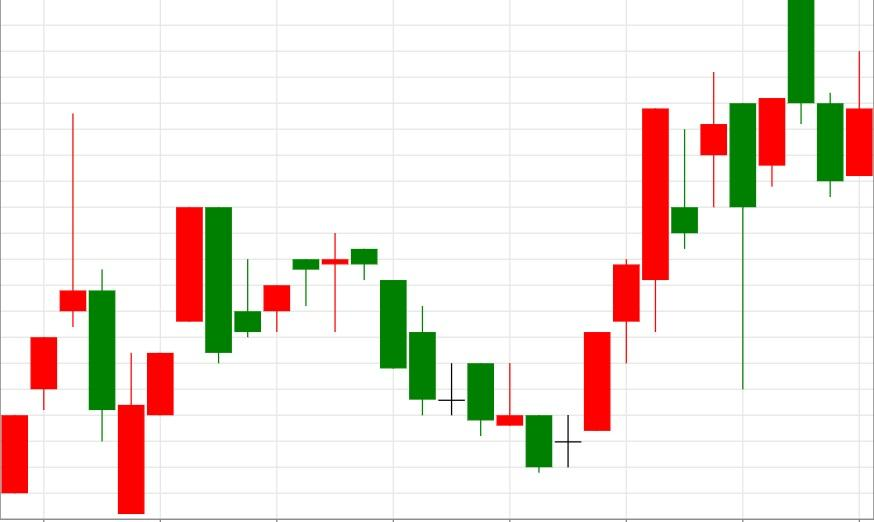bearish_engulfing_fall: (117, 207, 232, 514)
